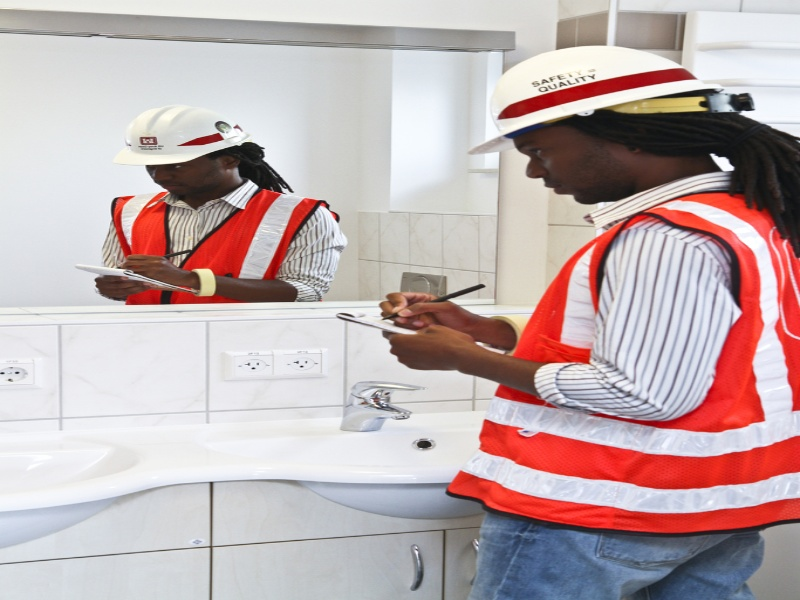Baret: (467, 45, 721, 154), (114, 104, 253, 165)
